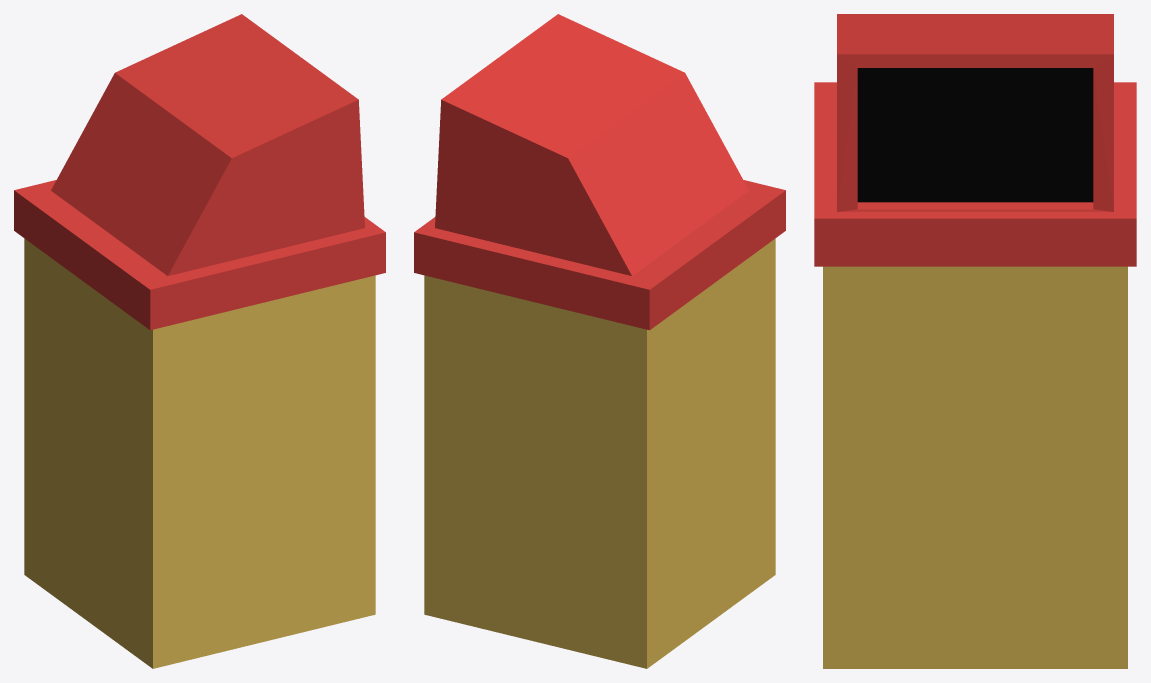
File: TrashBin.dae
3 views of the same model, side by side, from view 1: azimuth 30°, elevation 25°; view 2: azimuth 150°, elevation 25°; view 3: azimuth 270°, elevation 25° (orthographic). The views are drawn at different scales.
Parts seen in each view (by area): view 1: bin, lid; view 2: bin, lid; view 3: bin, lid, hole.
Part boxes in pixels (bbox=[...]): bin: bbox=[24, 238, 375, 668]; lid: bbox=[14, 14, 385, 330]; bin: bbox=[424, 238, 775, 668]; lid: bbox=[414, 14, 785, 330]; bin: bbox=[823, 266, 1127, 668]; lid: bbox=[814, 14, 1136, 266]; hole: bbox=[857, 68, 1093, 202].
Bounding box in the file's own units: 2.12 × 2.12 × 4.4.
